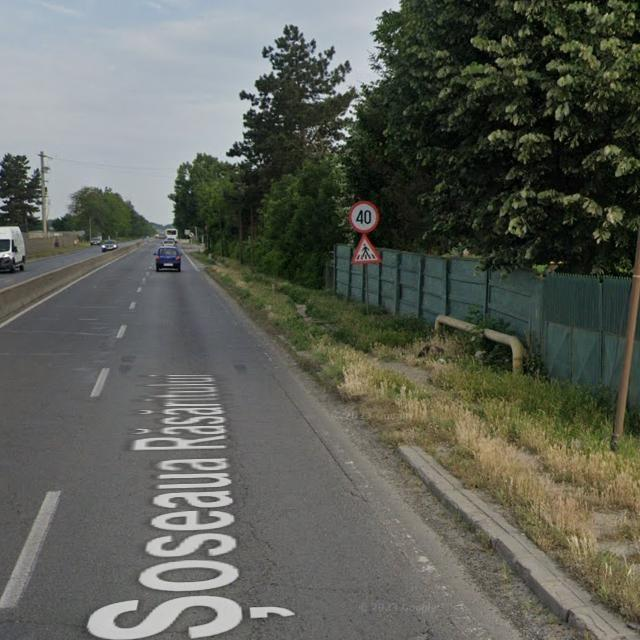forb_speed_over_40: (349, 201, 380, 234)
warn_crosswalk: (350, 233, 383, 264)
